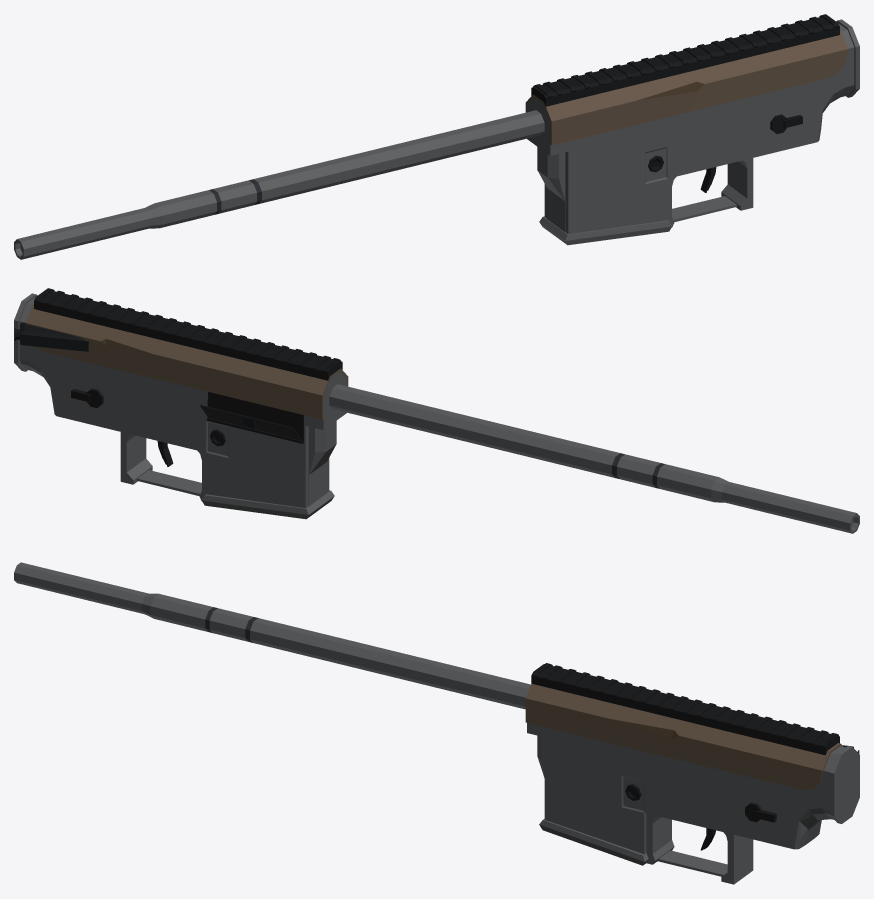
Rendered from Assault_Rifle_5,56_Clean.gltf.
The picture shows the model from 3 angles, top to bottom: view 1: azimuth 30°, elevation 25°; view 2: azimuth 150°, elevation 25°; view 3: azimuth 330°, elevation 25°; orthographic projection.
Visible parts, largest first — view 1: Assault_Rifle_5,56_Clean; view 2: Assault_Rifle_5,56_Clean, Lid_Gate_Clean; view 3: Assault_Rifle_5,56_Clean.
Part boxes in pixels (bbox=[...]): Assault_Rifle_5,56_Clean: bbox=[14, 14, 859, 259]; Assault_Rifle_5,56_Clean: bbox=[14, 288, 859, 533]; Lid_Gate_Clean: bbox=[200, 405, 302, 440]; Assault_Rifle_5,56_Clean: bbox=[14, 562, 859, 884].
Size of the model in its own units: 0.6748 by 0.1253 by 0.0526.
